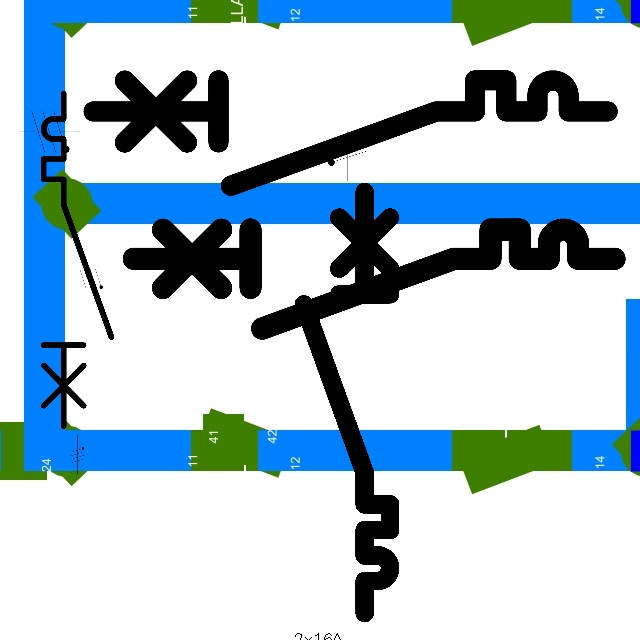interruptor_termomagnetico: (80, 67, 621, 199), (121, 217, 627, 341), (293, 181, 401, 624), (35, 85, 120, 434)
